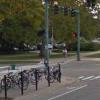Bicycle: (1, 68, 46, 98)
